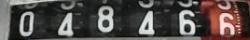digits: (216, 0, 238, 37), (137, 10, 157, 37), (96, 4, 114, 33), (56, 11, 74, 37), (178, 10, 196, 34), (18, 10, 34, 36)
